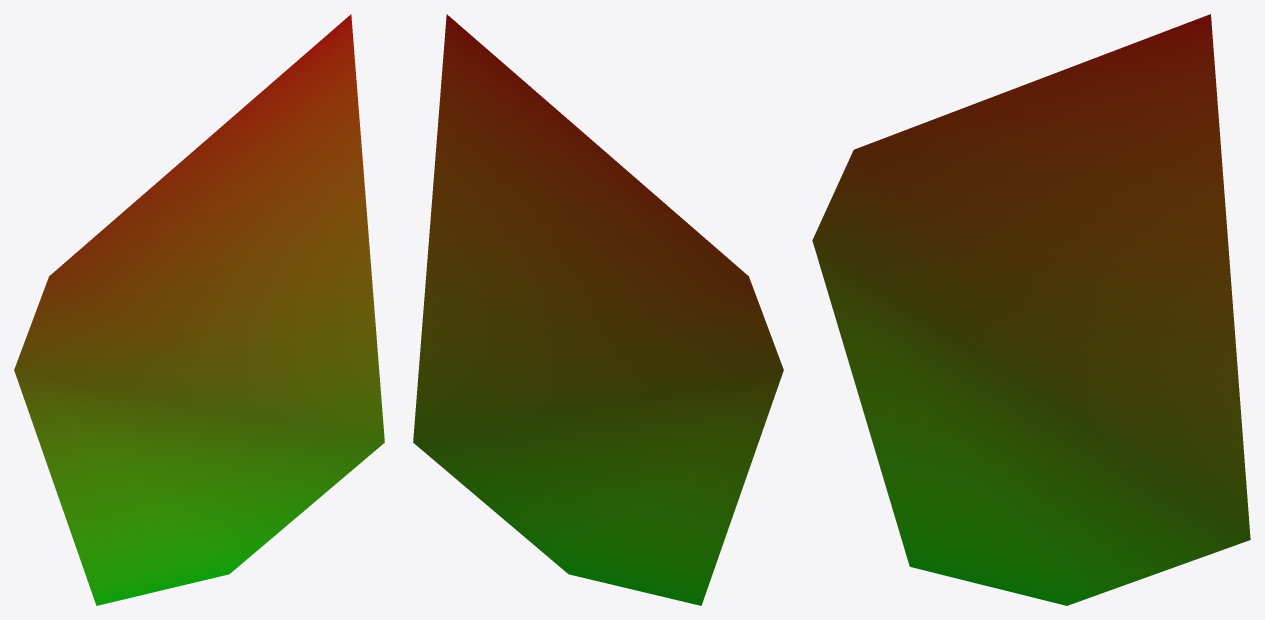
The model's file is Var5_LOD3.fbx.
The picture shows the model from 3 angles, left to right: view 1: azimuth 30°, elevation 25°; view 2: azimuth 150°, elevation 25°; view 3: azimuth 330°, elevation 25°; orthographic projection. The views are drawn at different scales.
Parts seen in each view (by area): view 1: _32d3_Var5_LOD3; view 2: _32d3_Var5_LOD3; view 3: _32d3_Var5_LOD3.
Boxes of the visible parts, box(x1,y1,x2,y2) form: _32d3_Var5_LOD3: box(14, 14, 384, 605); _32d3_Var5_LOD3: box(413, 14, 783, 605); _32d3_Var5_LOD3: box(812, 14, 1250, 605).
Bounding box in the file's own units: 32.6 × 44.57 × 4.89e-06.
